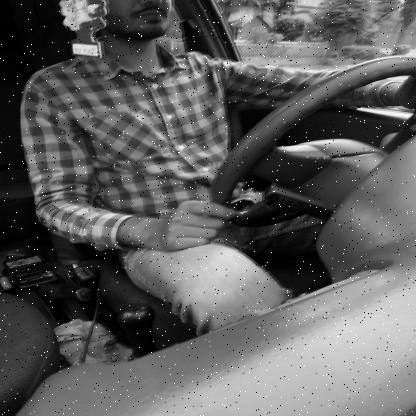no_seatbelt: (84, 0, 240, 189)
